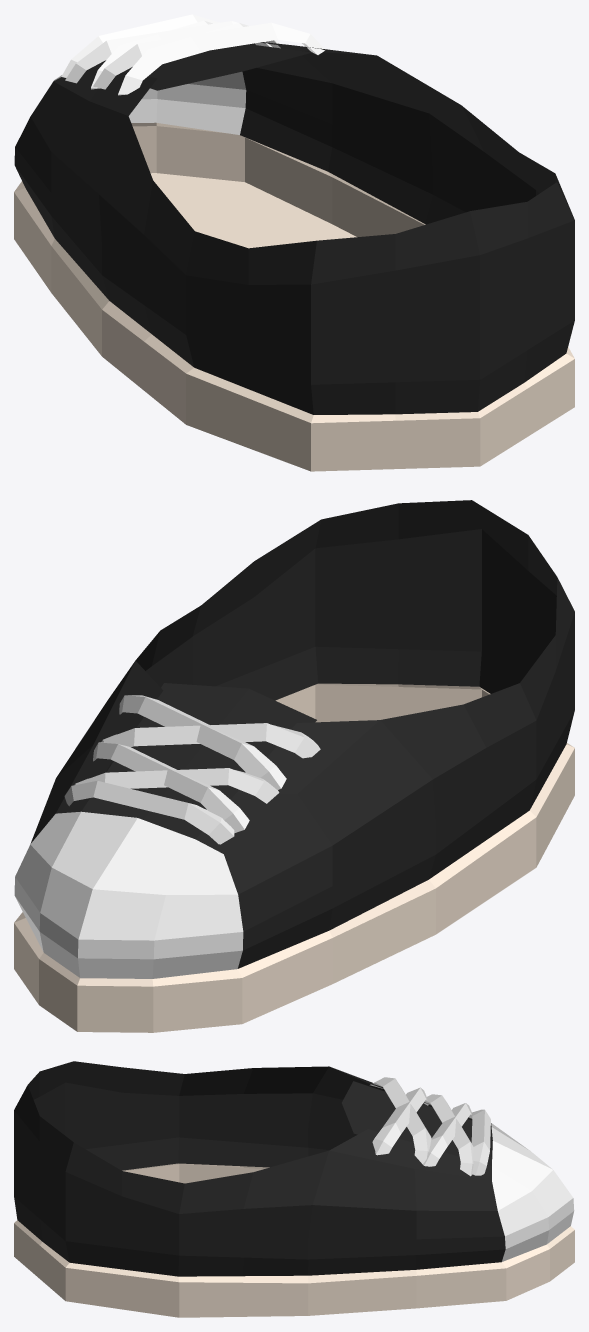
Rendered from sneakersright.fbx.
The picture shows the model from 3 angles, top to bottom: view 1: azimuth 30°, elevation 25°; view 2: azimuth 150°, elevation 25°; view 3: azimuth 270°, elevation 25°; orthographic projection. The views are drawn at different scales.
Parts seen in each view (by area): view 1: right.001; view 2: right.001; view 3: right.001.
Part boxes in pixels (x1,y1,x2,y2): right.001: (14, 14, 574, 471); right.001: (14, 500, 574, 1032); right.001: (14, 1061, 574, 1317).
Bounding box in the file's own units: 44.79 × 15.46 × 22.33.
